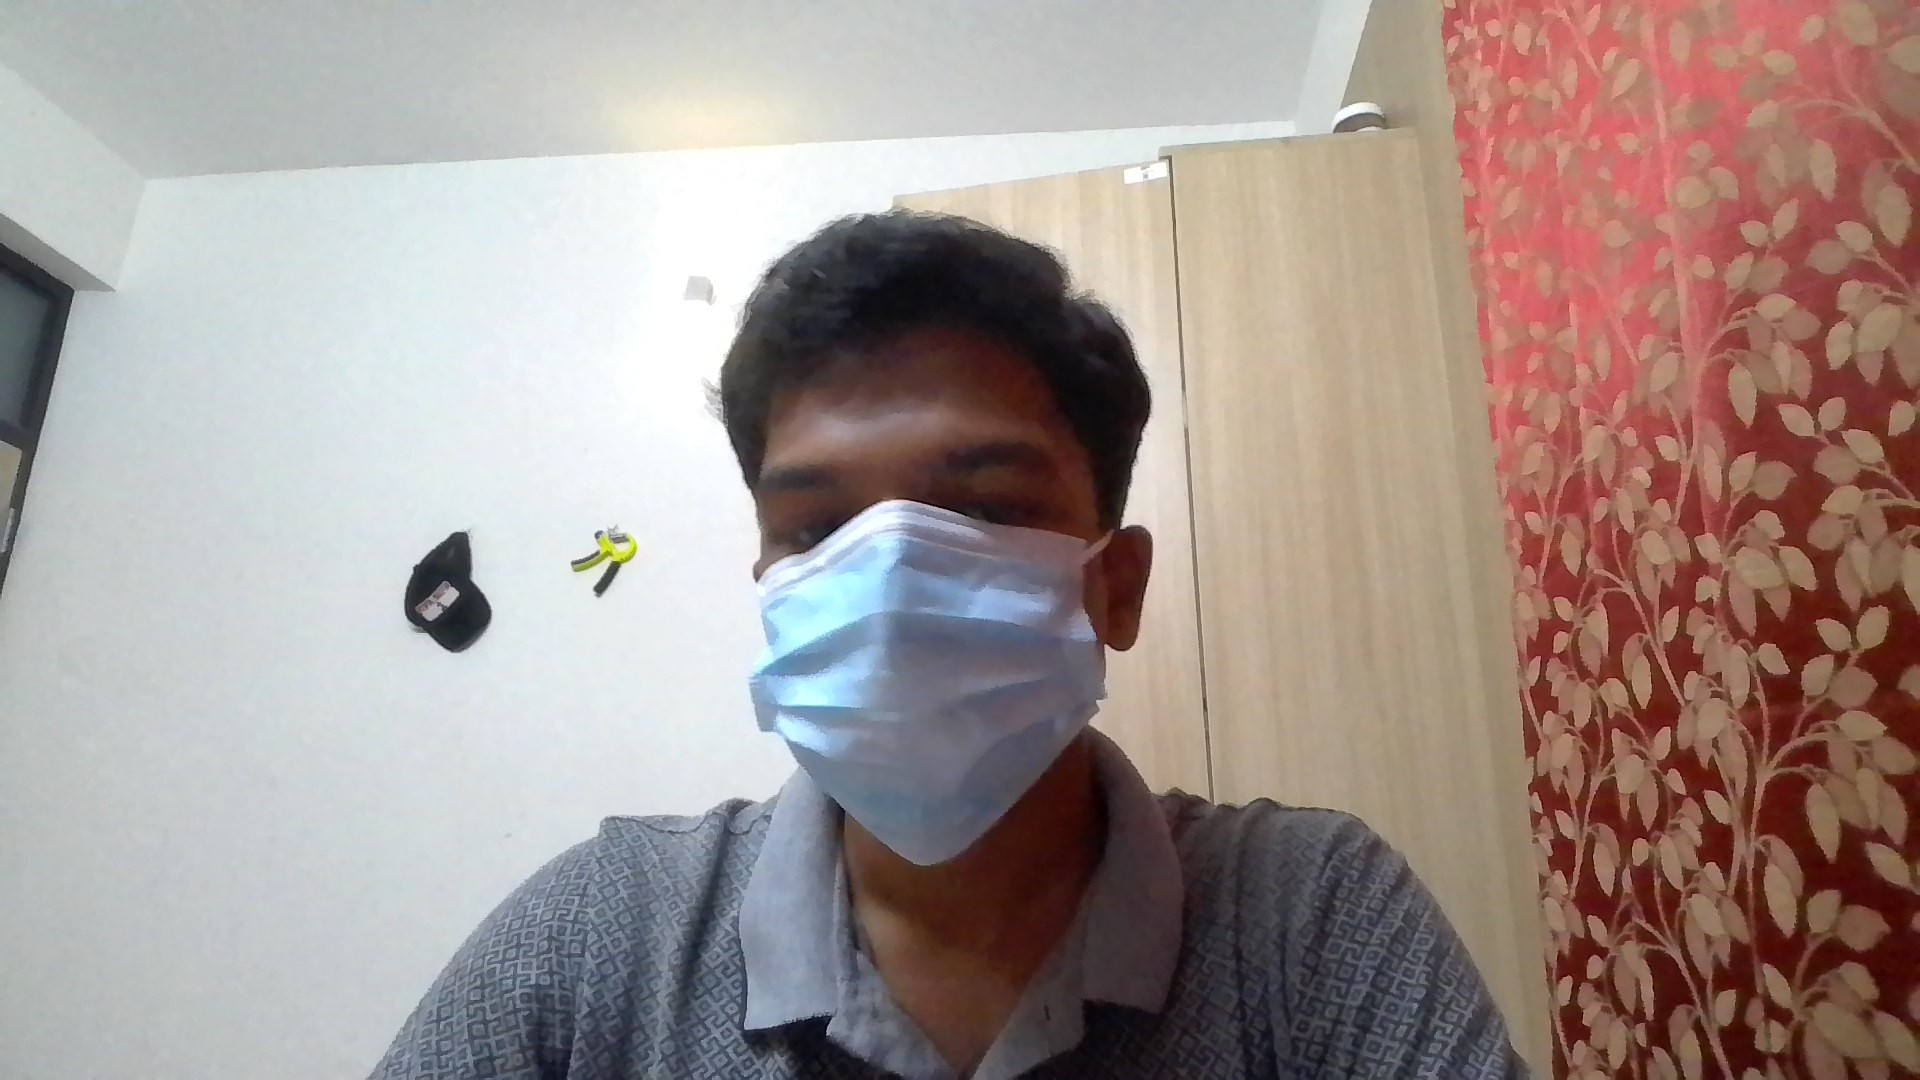Mask: (711, 531, 1124, 880)
